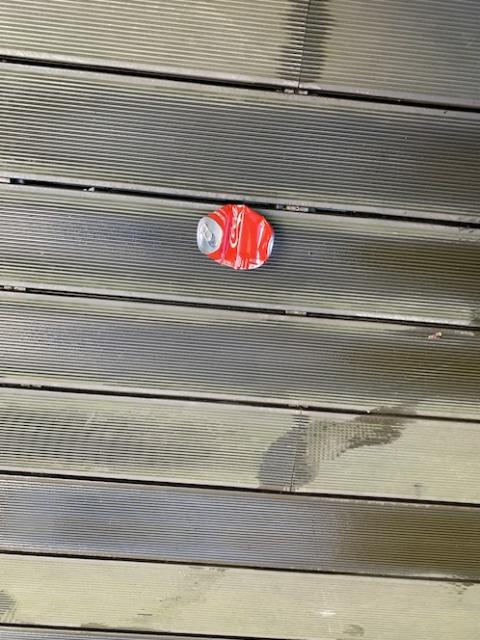metal: (199, 206, 275, 271)
